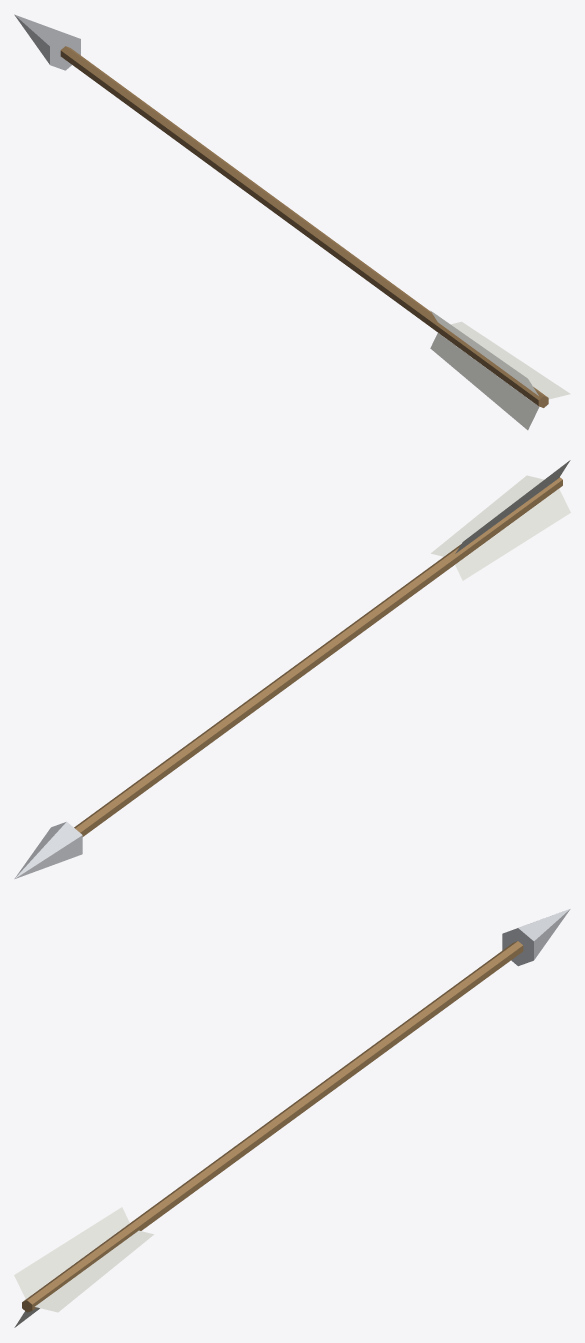
Rendered from munition_fleche.glb.
The picture shows the model from 3 angles, top to bottom: view 1: azimuth 30°, elevation 25°; view 2: azimuth 150°, elevation 25°; view 3: azimuth 330°, elevation 25°; orthographic projection. The views are drawn at different scales.
Parts seen in each view (by area): view 1: fleche_hampe, fleche_plumes, fleche_pointe; view 2: fleche_hampe, fleche_plumes, fleche_pointe; view 3: fleche_hampe, fleche_plumes, fleche_pointe.
Part boxes in pixels (x1,y1,x2,y2): fleche_hampe: [60, 46, 548, 407]; fleche_plumes: [430, 310, 570, 430]; fleche_pointe: [14, 14, 80, 70]; fleche_hampe: [74, 477, 562, 836]; fleche_plumes: [431, 460, 570, 580]; fleche_pointe: [14, 821, 82, 879]; fleche_hampe: [22, 941, 523, 1312]; fleche_plumes: [14, 1207, 153, 1327]; fleche_pointe: [502, 908, 570, 966].
Size of the model in its own units: 0.0346 by 0.039 by 0.72.
